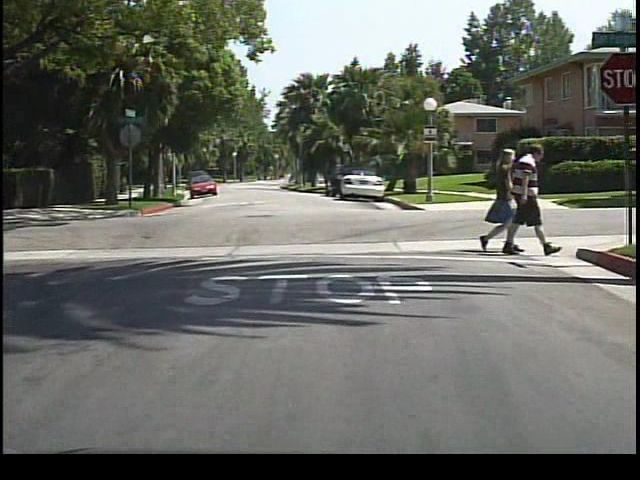person: (500, 143, 557, 261), (478, 147, 513, 251)
